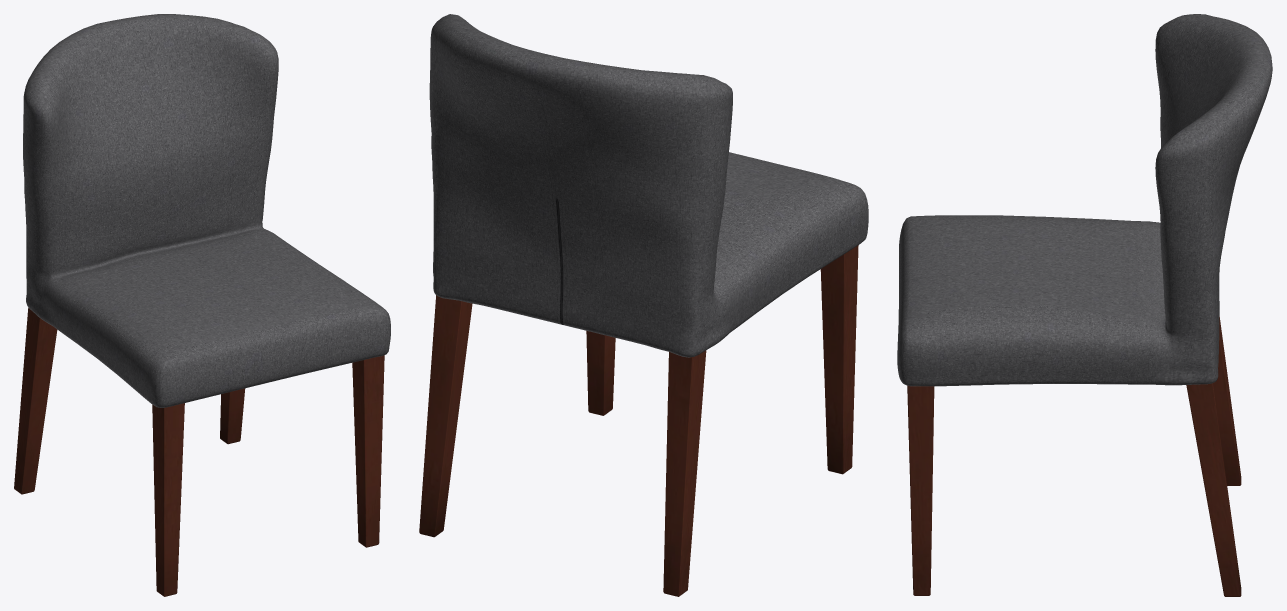
Rendered from abo-B0853KXQX1.glb.
3 views of the same model, side by side, from view 1: azimuth 30°, elevation 25°; view 2: azimuth 150°, elevation 25°; view 3: azimuth 270°, elevation 25° (orthographic). The views are drawn at different scales.
Bounding box in the file's own units: 0.491 × 0.839 × 0.592.
1 material, 1 textured.
